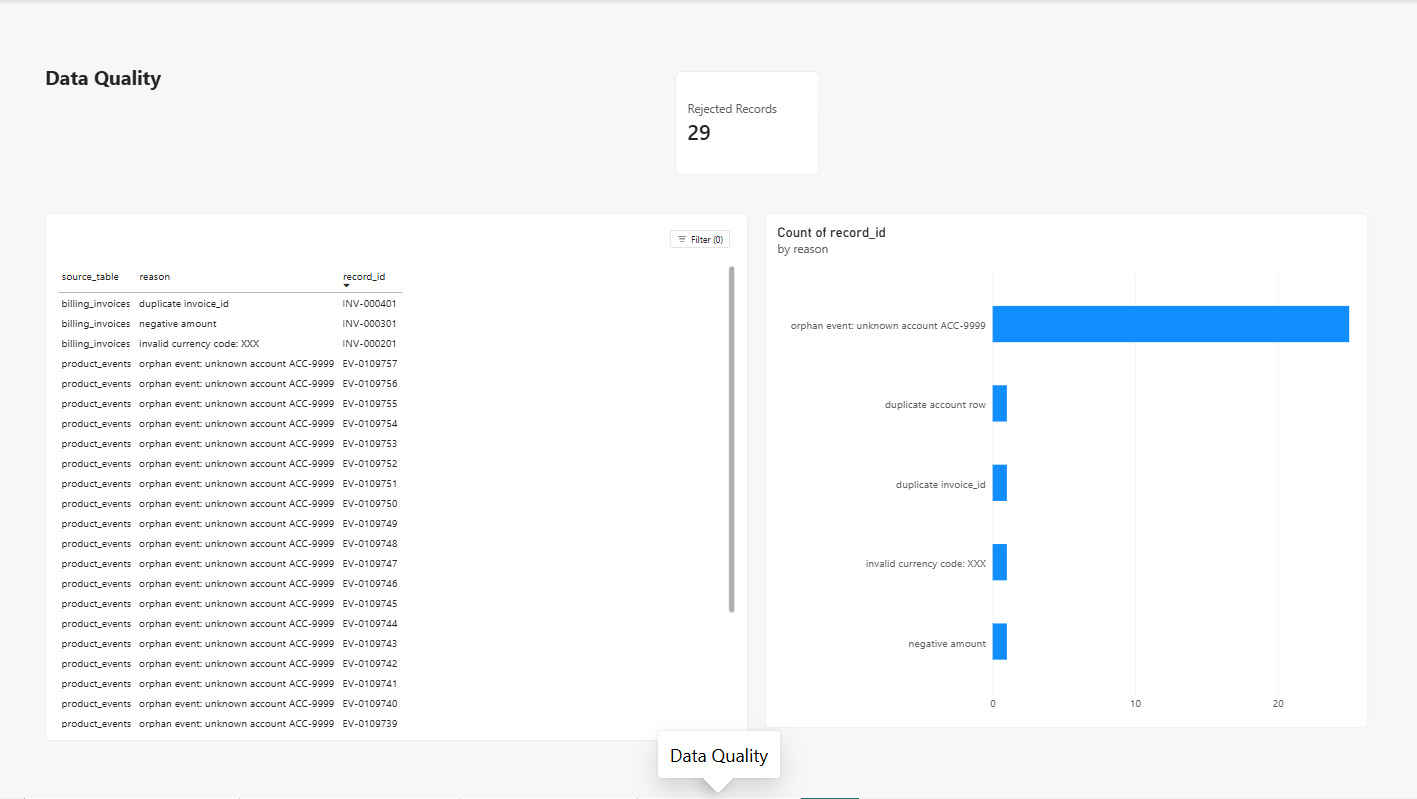

The dashboard page shown, as its layout file describes it:
{"tool":"powerbi","page":{"name":"Data Quality","canvas":[1920,1080],"ordinal":3},"visuals":[{"type":"cardVisual","fields":{"Data":["_Measures.Rejected Records"]},"box":[912.5,97.5,195,140],"z":0},{"type":"tableEx","fields":{"Values":["dq_rejected_records.source_table","dq_rejected_records.reason","dq_rejected_records.record_id"]},"box":[60,290,950,712.5],"z":1},{"type":"clusteredBarChart","fields":{"Category":["dq_rejected_records.reason"],"Y":["CountNonNull(dq_rejected_records.record_id)"]},"box":[1035,290,815,695],"z":2},{"type":"textbox","box":[60,88,853,150],"z":3}]}

Visuals, with their boxes in screenshot pixels (x1, y1, x2, y2), scaled from the page's 1920x1080 canvas onto the 1417x799 screenshot:
cardVisual - _Measures.Rejected Records: <box>673,72,817,176</box>
tableEx - dq_rejected_records.source_table x dq_rejected_records.reason: <box>44,215,745,742</box>
clusteredBarChart - dq_rejected_records.reason x CountNonNull(dq_rejected_records.record_id): <box>764,215,1365,729</box>
textbox: <box>44,65,674,176</box>
